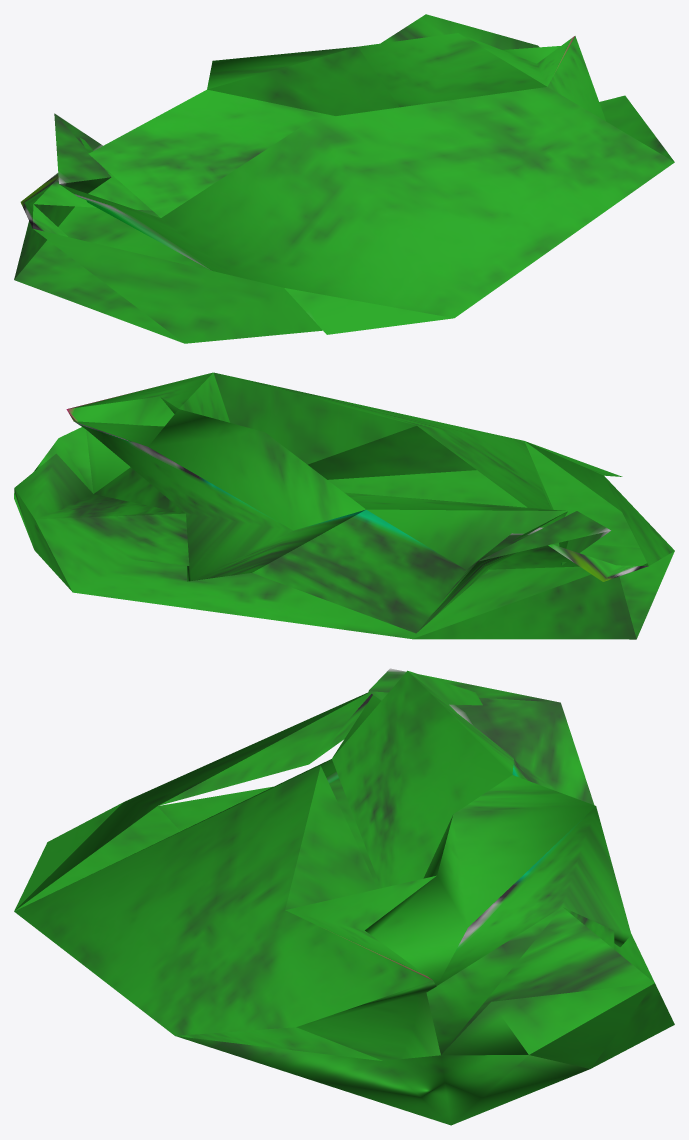
File: Garbage_Plastic_Bag_02.fbx
3 renders of one model, top to bottom at view 1: azimuth 30°, elevation 25°; view 2: azimuth 150°, elevation 25°; view 3: azimuth 270°, elevation 25°, orthographic. The views are drawn at different scales.
Parts seen in each view (by area): view 1: Garbage_Plastic_Bag_02; view 2: Garbage_Plastic_Bag_02; view 3: Garbage_Plastic_Bag_02.
Boxes of the visible parts, x1,y1,x2,y2 form: Garbage_Plastic_Bag_02: (14, 14, 674, 343); Garbage_Plastic_Bag_02: (14, 372, 674, 639); Garbage_Plastic_Bag_02: (14, 668, 674, 1125).
Size of the model in its own units: 5.21 by 1.11 by 3.97.
